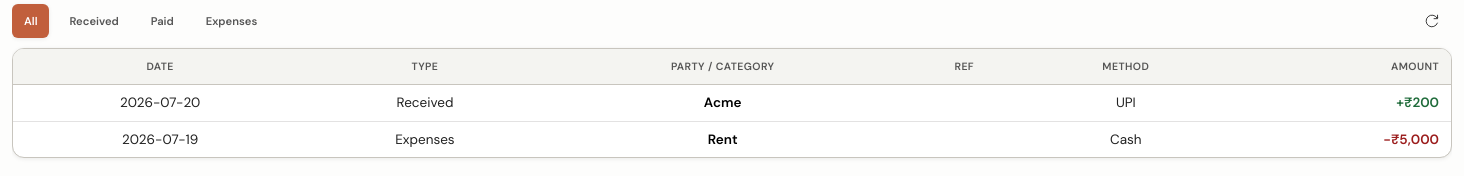
CashbookView › merges receipts and expenses and filters by chip
Expected: the text "Acme" is shown, [543,85,903,121]
Expected: the text "Rent" is shown, [543,121,903,157]
Click the button "Expenses". click: (232, 21)
box: [194,4,269,38]
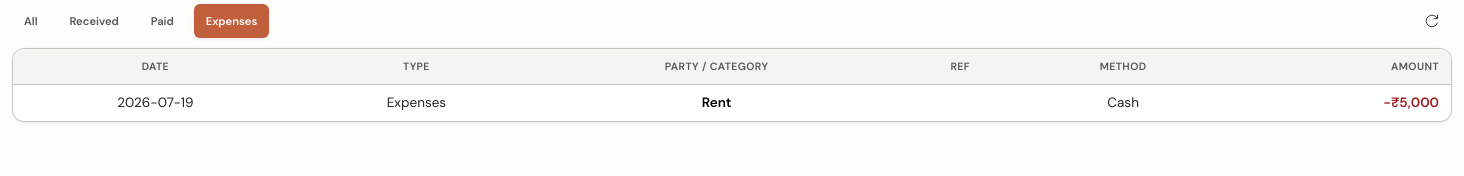
Expected: the text "Rent" is shown, [535,85,898,121]
Expected: the text "Acme" is gone
